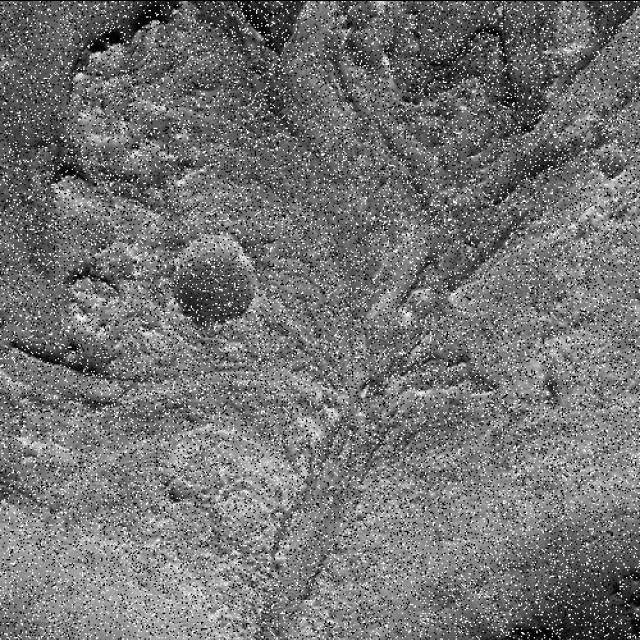crater: (156, 215, 266, 334), (599, 5, 640, 88), (351, 602, 433, 640), (592, 136, 638, 184), (156, 466, 197, 508), (613, 50, 640, 105), (618, 0, 640, 59)
